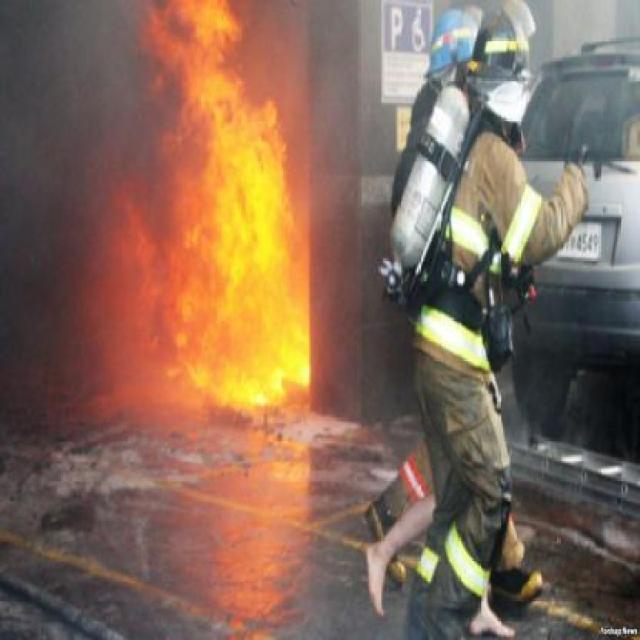Fire: (96, 21, 309, 411)
